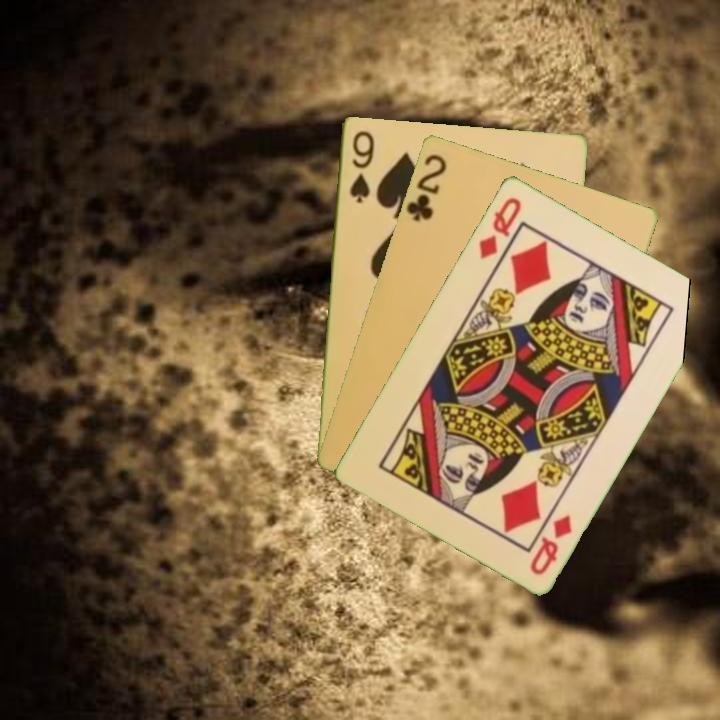2c: (402, 150, 450, 224)
9s: (346, 126, 377, 206)
Qd: (475, 193, 524, 262), (526, 510, 575, 578)
